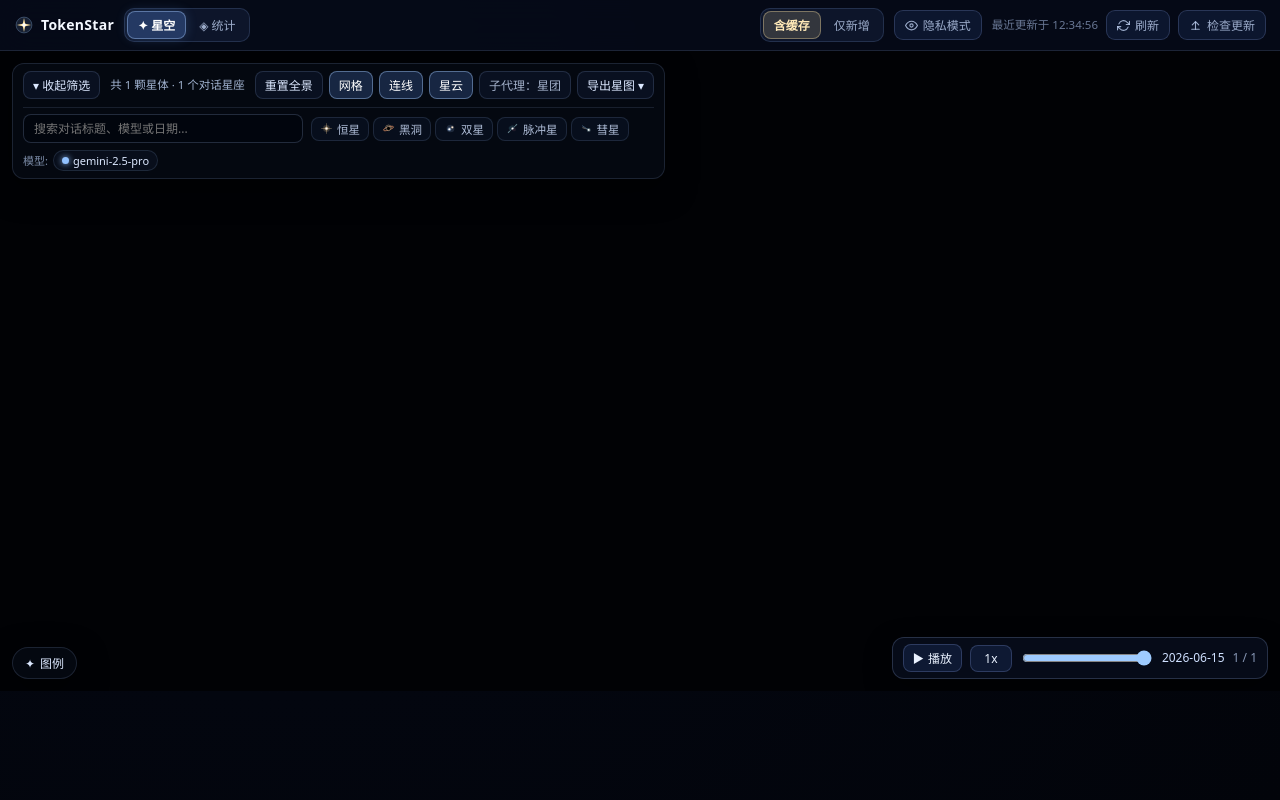
Test: TopBar, StarHeatmap, UsageTables, StatsTab & App Integration › hides one-click update button and shows Release/git pull guidance when can_self_update is false
The image size is (1280, 800).
Click the button "检查更新" at (1222, 25), box [1178, 10, 1266, 40]
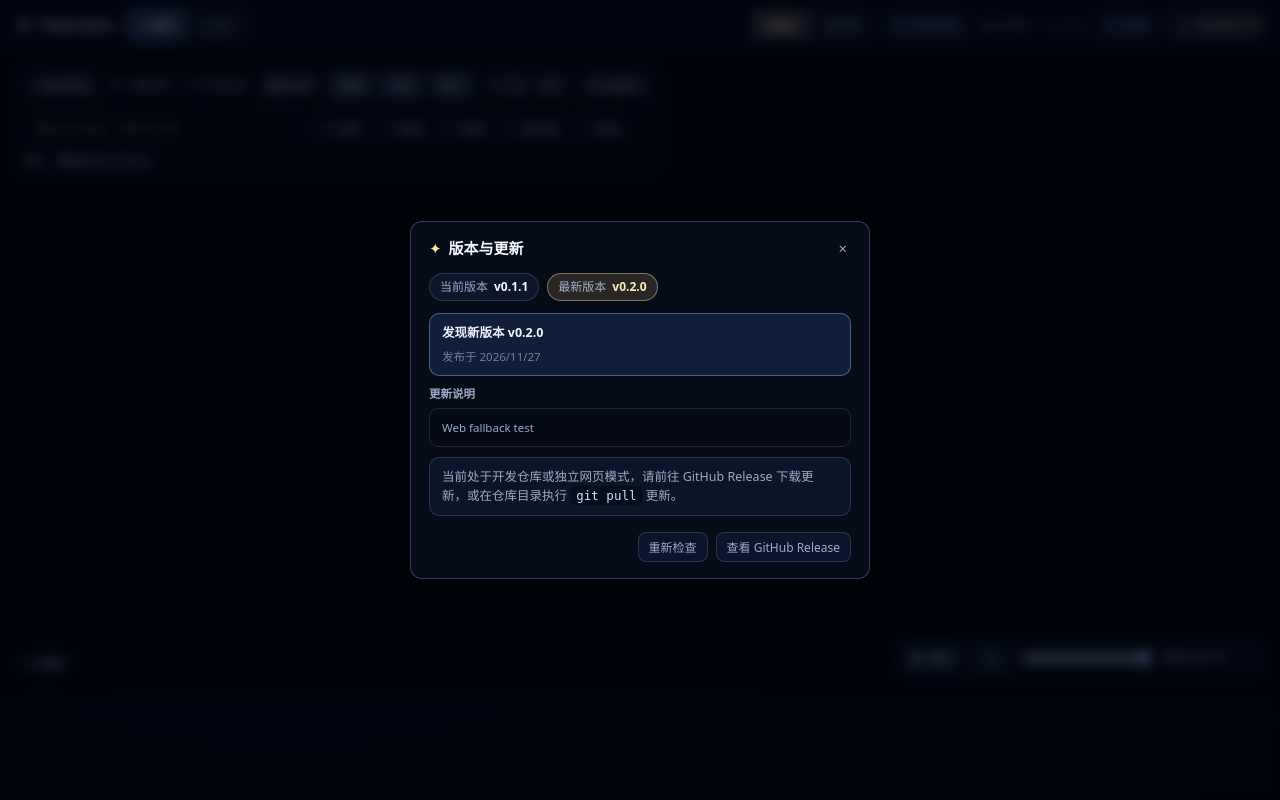
Now the text "git pull" is shown, box [570, 486, 642, 504]
Now the button "查看 GitHub Release" is shown, box [716, 532, 851, 562]
